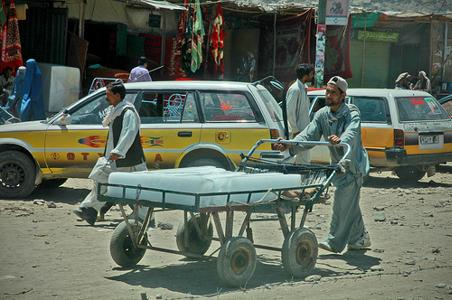person: (273, 77, 376, 254)
